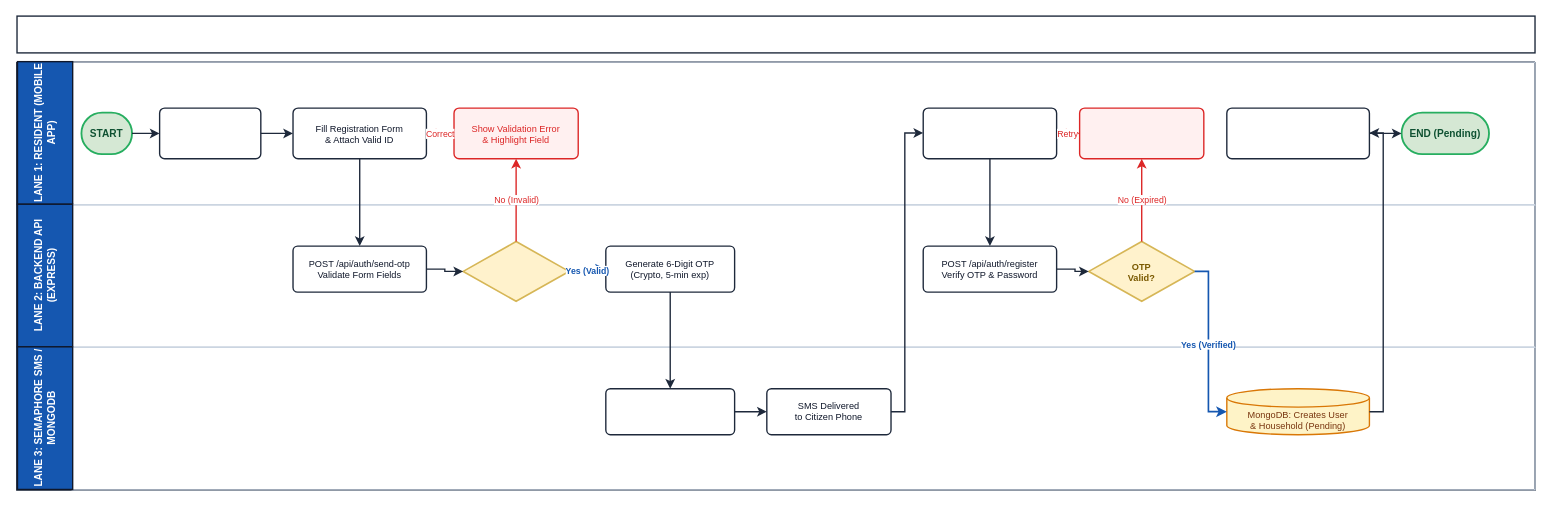
Image size: 1551x507. Some labels were removed from this diagram. Here are the shapes that lost their labels. From the top down, the centre of each, then its label:
pixel 775 34: Process Flow [PF-R01]: Register Account Module (Linked Use Case: UC-R01)
pixel 210 133: Open App, Tap Register
pixel 989 133: Enter 6-Digit OTP Code in Mobile Modal
pixel 1141 133: Show OTP Invalid & Resend Button
pixel 1298 133: Display "Submitted" Wait for Barangay Review
pixel 515 271: Form Valid?
pixel 670 411: Dispatch OTP via Semaphore SMS API
